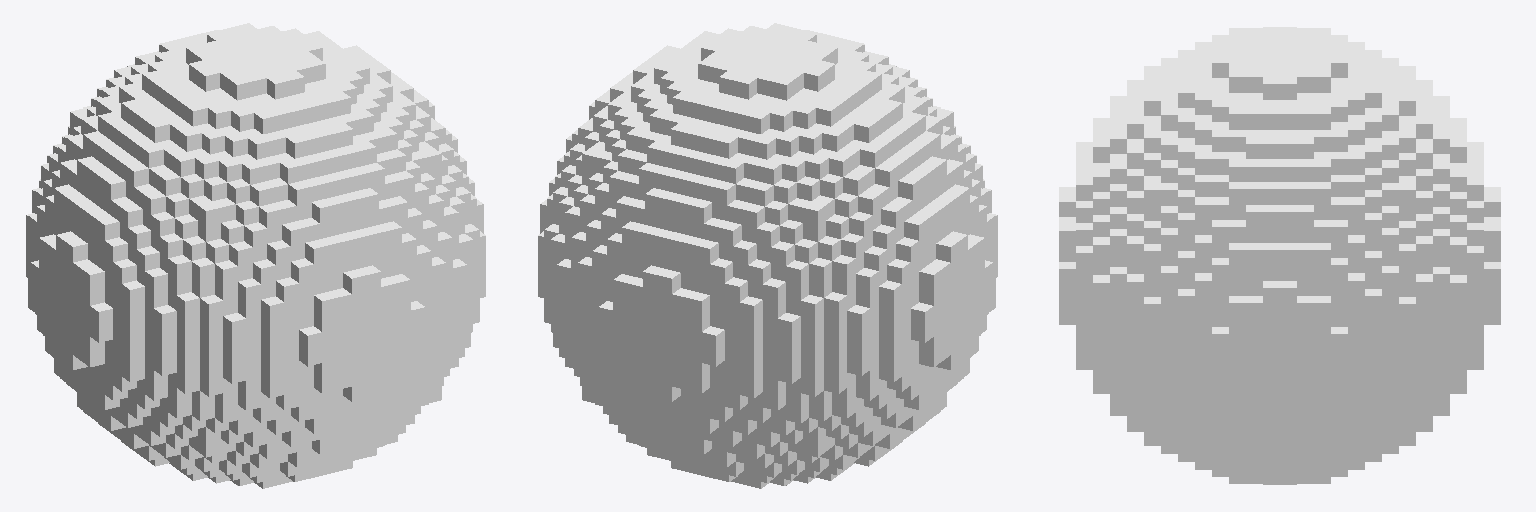
File: snowman-13-head.obj
The picture shows the model from 3 angles: view 1: azimuth 30°, elevation 25°; view 2: azimuth 150°, elevation 25°; view 3: azimuth 270°, elevation 25°; orthographic projection.
Parts seen in each view (by area): view 1: head; view 2: head; view 3: head.
Boxes of the visible parts, x1=… form: head: x1=26, y1=23, x2=485, y2=488; head: x1=538, y1=23, x2=997, y2=488; head: x1=1059, y1=27, x2=1500, y2=484.
Bounding box in the file's own units: 2.6 × 2.6 × 2.6.